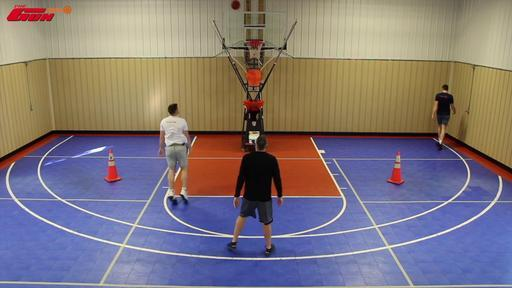ball: (231, 0, 240, 9)
human: (226, 138, 282, 256), (158, 102, 192, 205), (432, 84, 456, 152)
rim: (244, 40, 266, 58)
